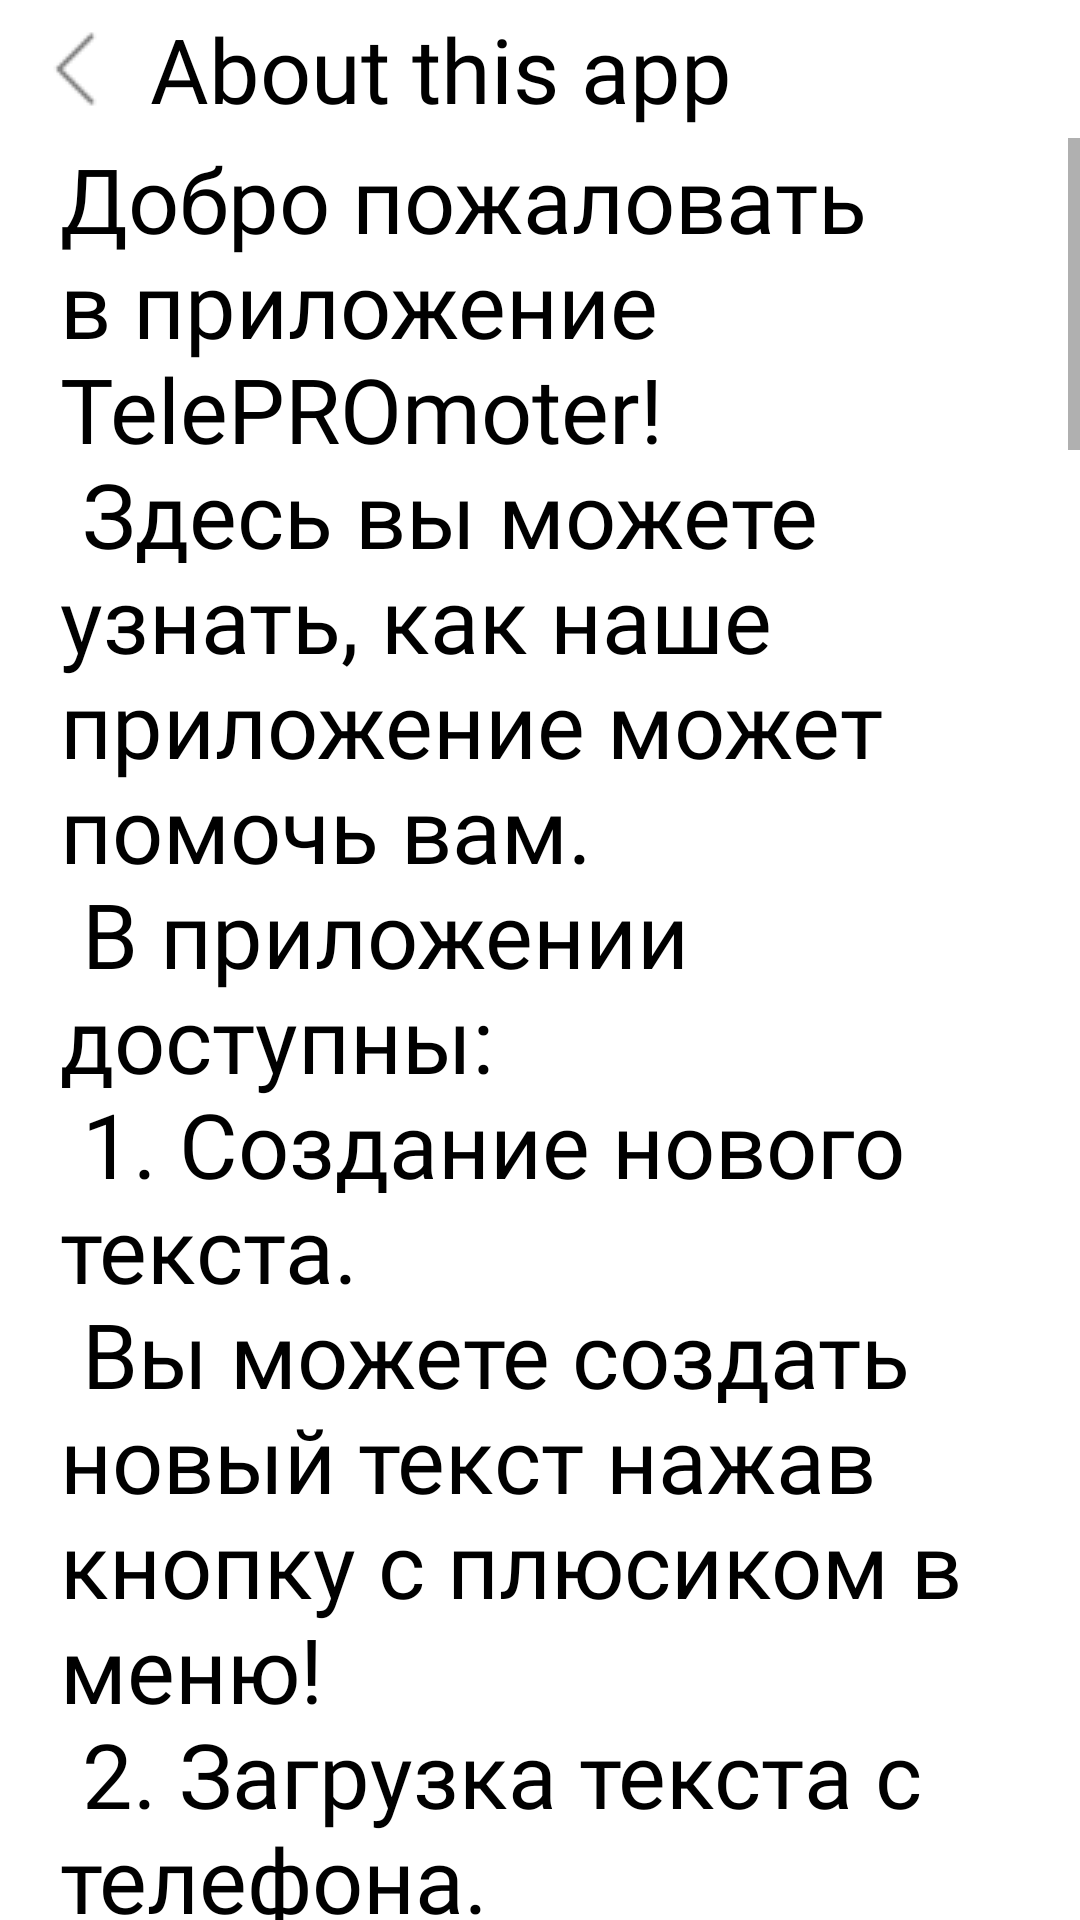

Screen size 1080 × 1920. Icon name, then its center in pixels as point (x, y):
back editor: point (75, 69)
